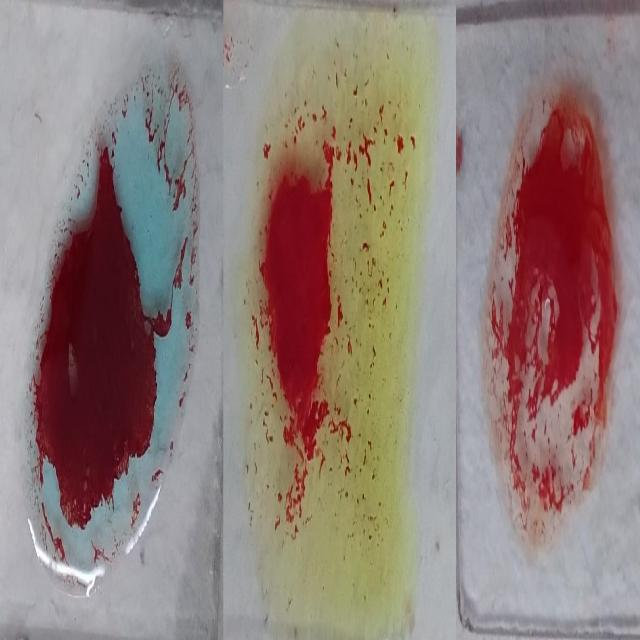A: (30, 46, 194, 594)
B: (237, 18, 407, 600)
D: (493, 81, 617, 529)
